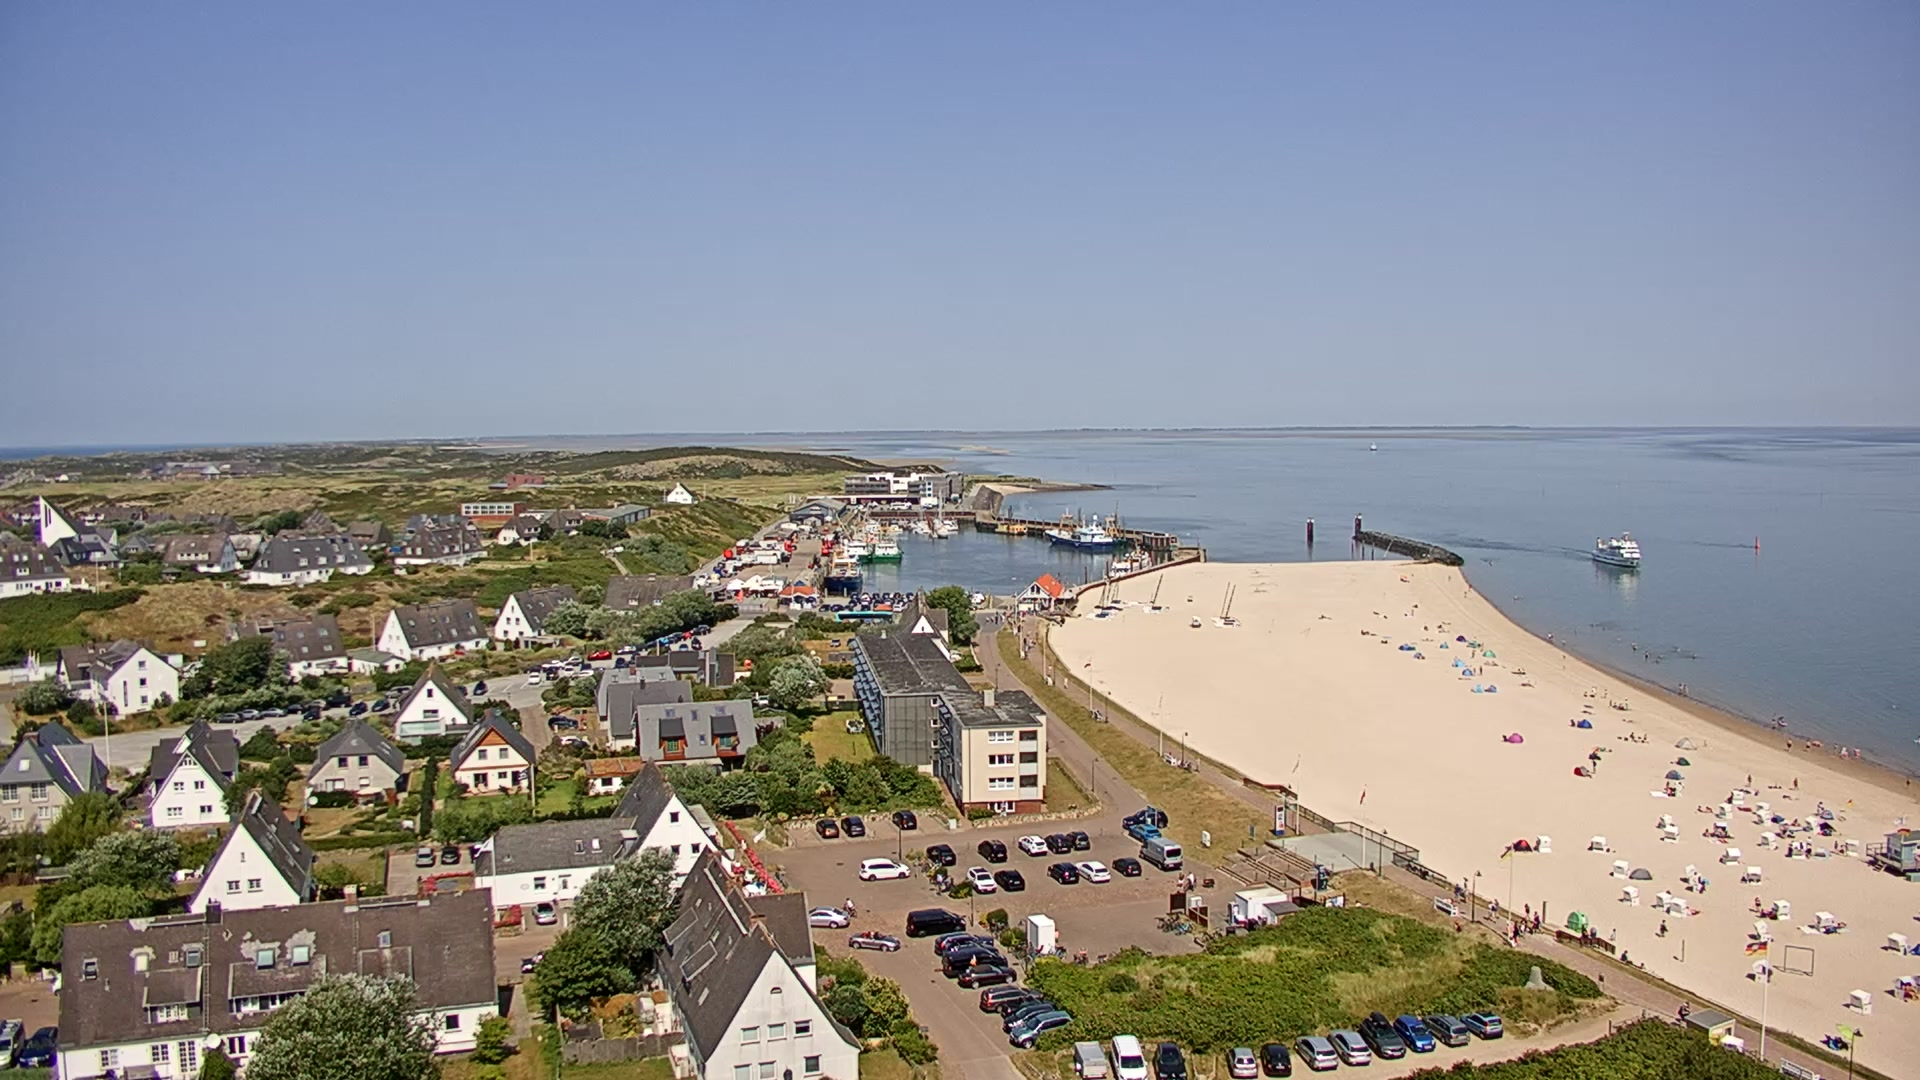human: (843, 896, 857, 917), (1512, 919, 1524, 944), (1531, 908, 1542, 932), (1658, 917, 1670, 938), (1590, 685, 1609, 698), (1523, 900, 1533, 922), (1490, 897, 1500, 918), (1486, 899, 1495, 921), (1608, 927, 1619, 943), (1185, 870, 1195, 890), (1453, 882, 1462, 902), (1806, 834, 1814, 856), (1680, 998, 1692, 1013), (1581, 924, 1590, 943), (1702, 827, 1718, 837), (1619, 948, 1630, 963), (1754, 894, 1762, 912), (1764, 906, 1777, 917), (1785, 735, 1793, 752), (1816, 800, 1825, 815), (1838, 745, 1848, 759), (1804, 737, 1812, 753), (1682, 682, 1691, 697), (1792, 776, 1800, 790), (1746, 773, 1754, 787), (1677, 681, 1684, 696), (1177, 870, 1184, 885), (1905, 775, 1912, 790), (1852, 746, 1860, 758), (1062, 675, 1068, 688), (1833, 839, 1839, 850), (1643, 649, 1650, 661), (1629, 730, 1636, 740), (1617, 702, 1625, 711), (1624, 696, 1630, 709), (1642, 732, 1648, 742), (1612, 701, 1618, 709), (1479, 665, 1483, 675), (1609, 699, 1613, 706)
land: (1007, 1010, 1073, 1048), (1359, 1010, 1407, 1059), (940, 944, 1017, 973), (906, 905, 967, 938), (1108, 1034, 1148, 1080), (17, 1026, 58, 1070), (1393, 1013, 1437, 1052), (931, 929, 993, 956), (1327, 1028, 1372, 1067), (1292, 1035, 1339, 1072), (958, 961, 1018, 989), (1422, 1012, 1471, 1045), (1138, 834, 1183, 869), (1000, 1005, 1054, 1032), (978, 984, 1034, 1010), (1459, 1008, 1504, 1039), (998, 993, 1056, 1018), (1153, 1039, 1187, 1079), (858, 857, 912, 882), (848, 929, 902, 952), (1, 1016, 25, 1069), (1258, 1039, 1292, 1075), (1223, 1044, 1257, 1077), (805, 906, 849, 929), (1119, 808, 1167, 828), (964, 864, 997, 892), (1073, 859, 1109, 883), (1046, 861, 1079, 885), (992, 868, 1025, 892), (926, 844, 957, 868), (976, 836, 1007, 860), (1041, 829, 1072, 853), (834, 610, 894, 623), (1016, 832, 1047, 854), (531, 902, 559, 925), (1128, 821, 1161, 840), (1110, 857, 1141, 877), (892, 810, 918, 831), (840, 816, 866, 837), (1066, 827, 1089, 849), (546, 713, 579, 728), (414, 845, 436, 867), (815, 819, 839, 839), (439, 845, 462, 865), (318, 692, 351, 706), (557, 733, 589, 746), (234, 707, 262, 720), (211, 710, 239, 723), (385, 685, 413, 698), (585, 647, 612, 659), (258, 705, 284, 717), (302, 698, 327, 709), (735, 537, 750, 555), (349, 700, 369, 715), (559, 654, 583, 666), (370, 698, 391, 711), (889, 501, 913, 511), (283, 701, 304, 713), (301, 709, 319, 722), (541, 658, 563, 668), (611, 644, 635, 653), (472, 680, 488, 695), (526, 670, 540, 684), (545, 667, 560, 680), (693, 624, 711, 635), (560, 665, 577, 677), (521, 961, 538, 973), (522, 663, 543, 672), (793, 592, 807, 604), (665, 632, 684, 640), (615, 656, 626, 667), (579, 670, 593, 678), (582, 661, 593, 670), (830, 603, 842, 611), (681, 632, 693, 640), (860, 601, 869, 610), (679, 642, 689, 651), (860, 593, 870, 601), (847, 599, 857, 607), (807, 595, 817, 602), (691, 641, 702, 649), (818, 604, 830, 611), (893, 603, 902, 611), (907, 591, 915, 599), (850, 593, 859, 601), (884, 598, 892, 605), (883, 591, 891, 598), (893, 591, 901, 598), (872, 592, 880, 599), (655, 636, 667, 640)
sea: (1041, 496, 1126, 549), (1588, 529, 1642, 568), (823, 539, 862, 592), (1103, 538, 1152, 579), (971, 502, 1027, 534), (1211, 580, 1240, 626), (867, 530, 904, 564), (841, 528, 872, 562), (1143, 571, 1167, 612), (931, 491, 951, 538), (1089, 580, 1112, 619), (1094, 575, 1117, 612), (1109, 575, 1127, 604), (934, 518, 959, 531), (1368, 440, 1379, 451)
